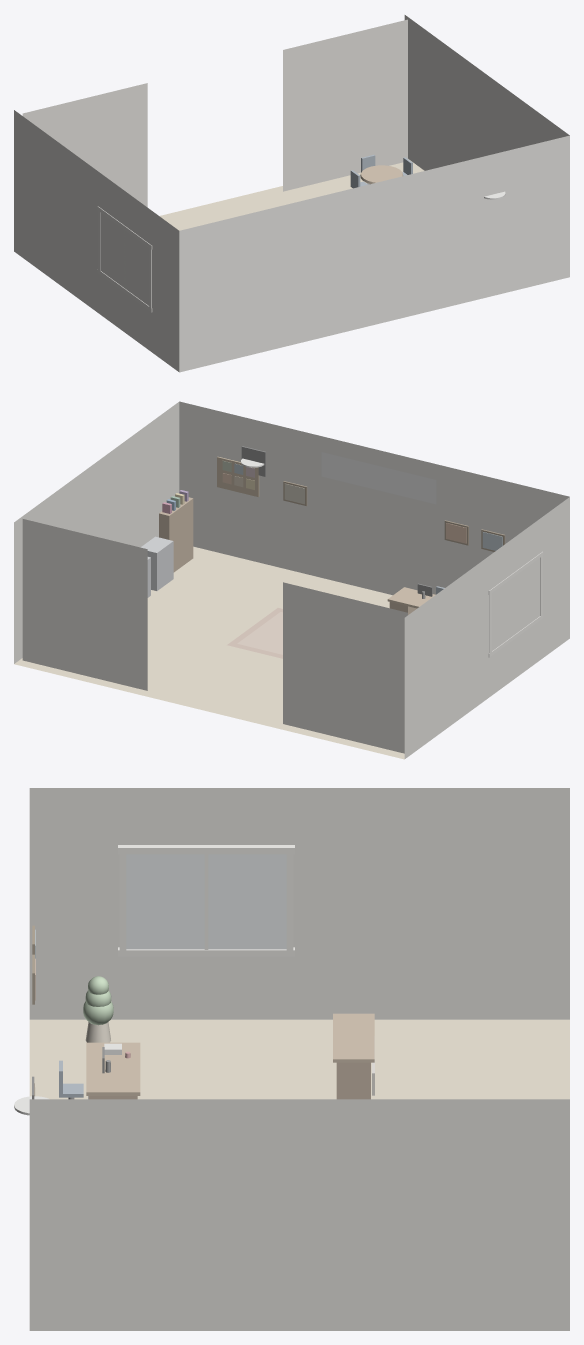
The picture shows the model from 3 angles, top to bottom: view 1: azimuth 30°, elevation 25°; view 2: azimuth 150°, elevation 25°; view 3: azimuth 270°, elevation 25°; orthographic projection. The views are drawn at different scales.
Size of the model in its own units: 15.02 by 5.2 by 11.32.
